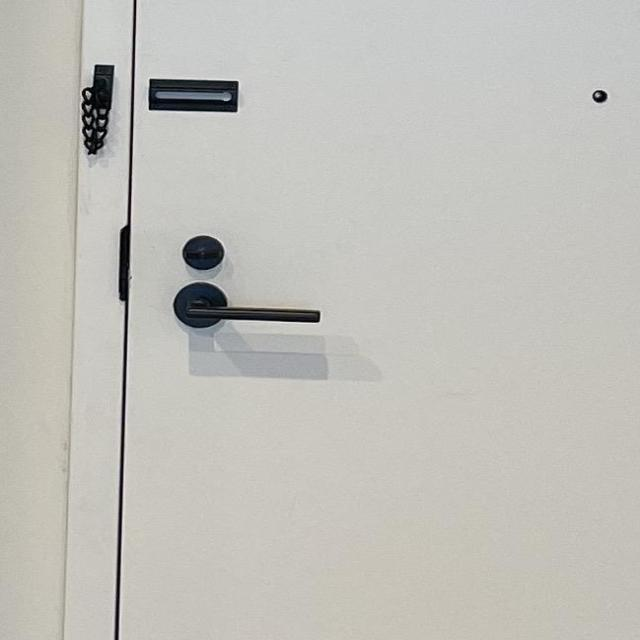door_handle: (161, 281, 326, 342)
